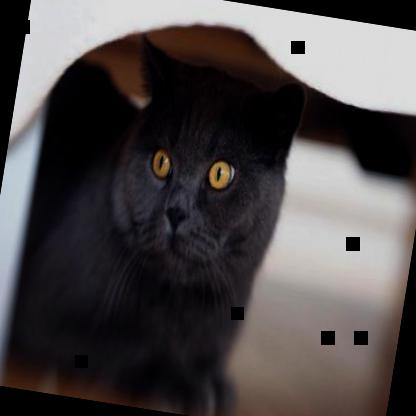cat: (1, 20, 311, 415)
